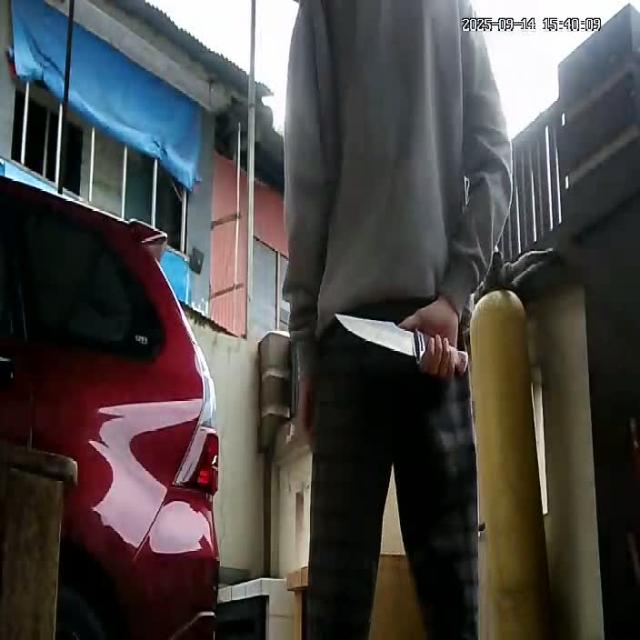senjata_tajam: (332, 310, 428, 363)
